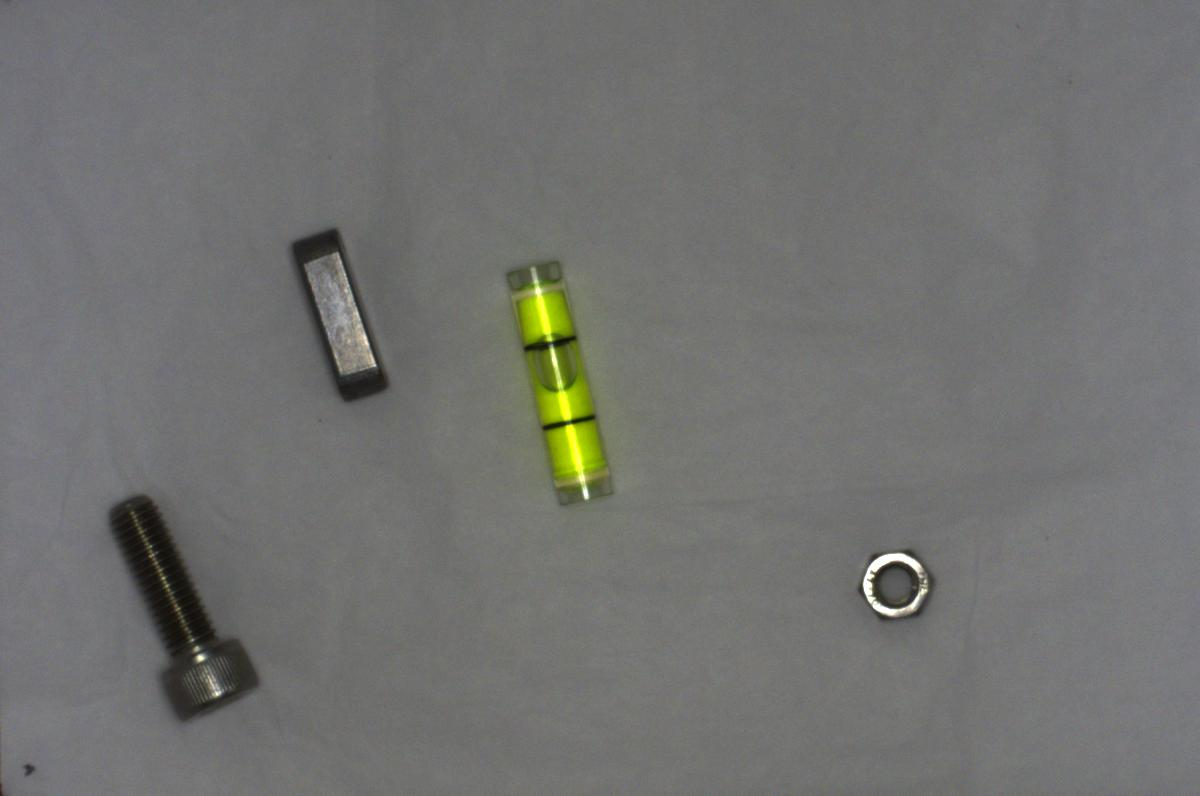Hexagon nut: (850, 543, 939, 619)
Hexagon screw: (102, 488, 260, 730)
Horizontal bubble: (492, 252, 625, 512)
Keybar: (288, 221, 392, 406)
